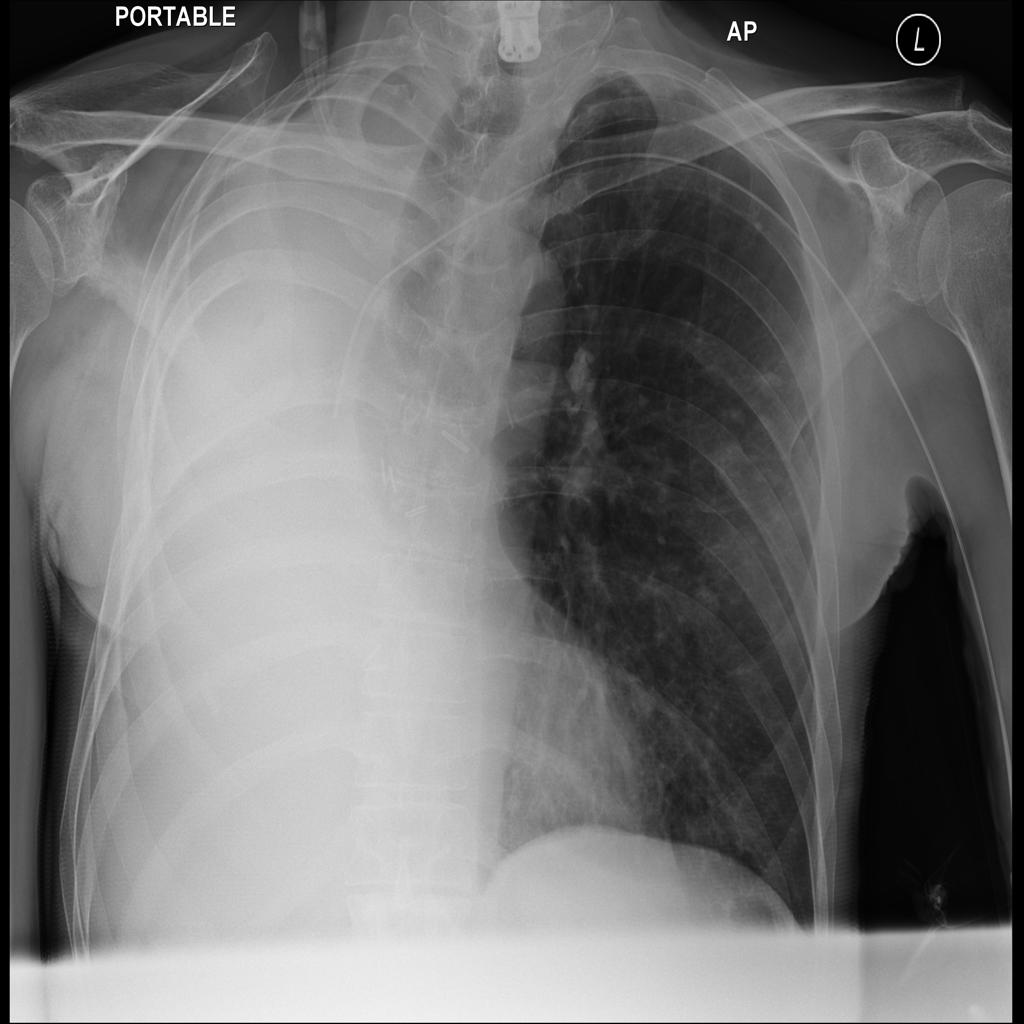nodule: (742, 355, 792, 408), (740, 206, 774, 244)
